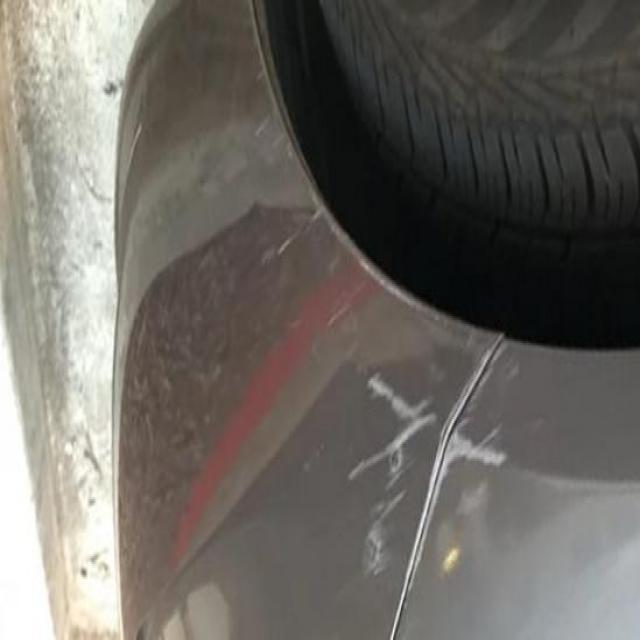scratch: (338, 368, 516, 600)
